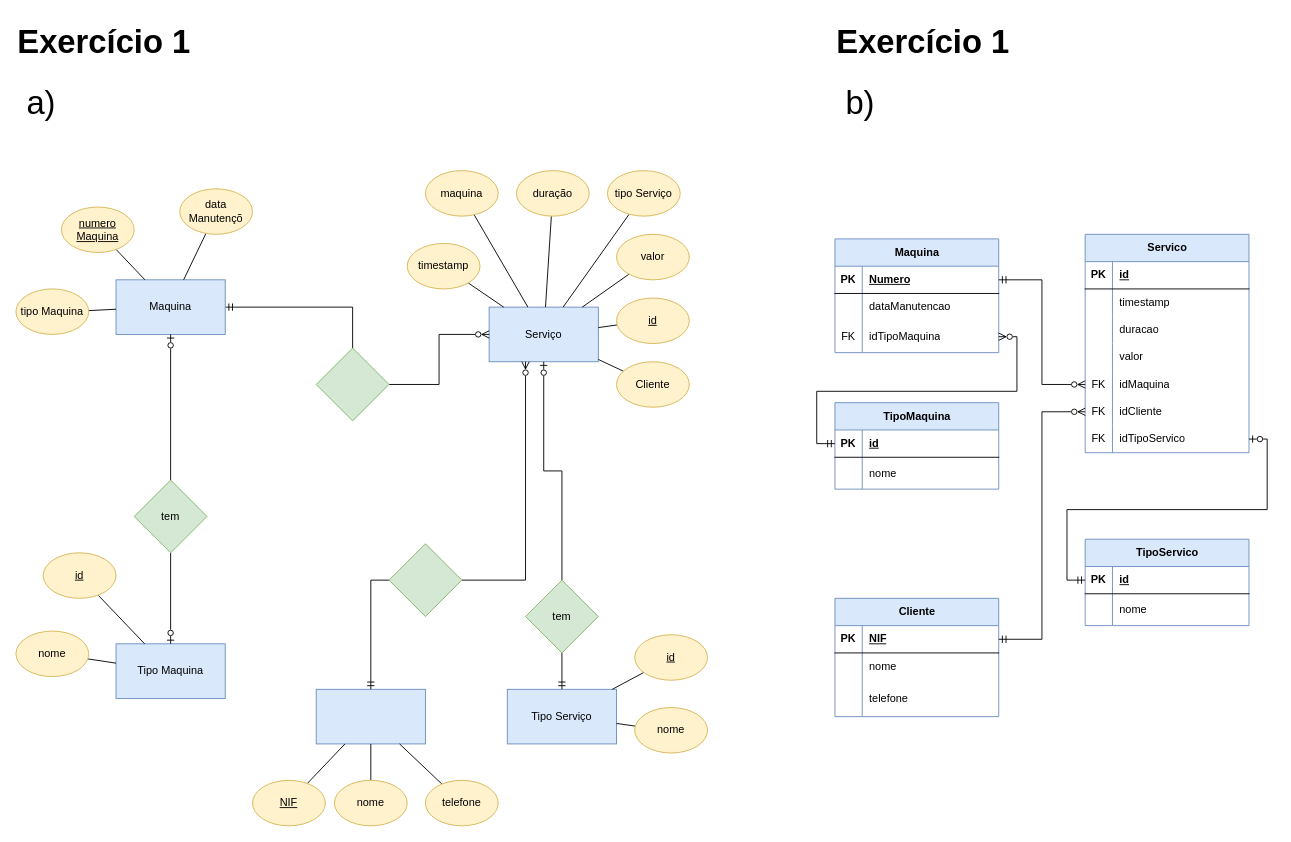
Some shapes in this 1291 by 842 pixel diagram are drawn without their labels. The centre of each missing label's shape, as x and y in pixels:
Client: the point at 370,716
Compra: the point at 425,580
Utiliza: the point at 352,384
